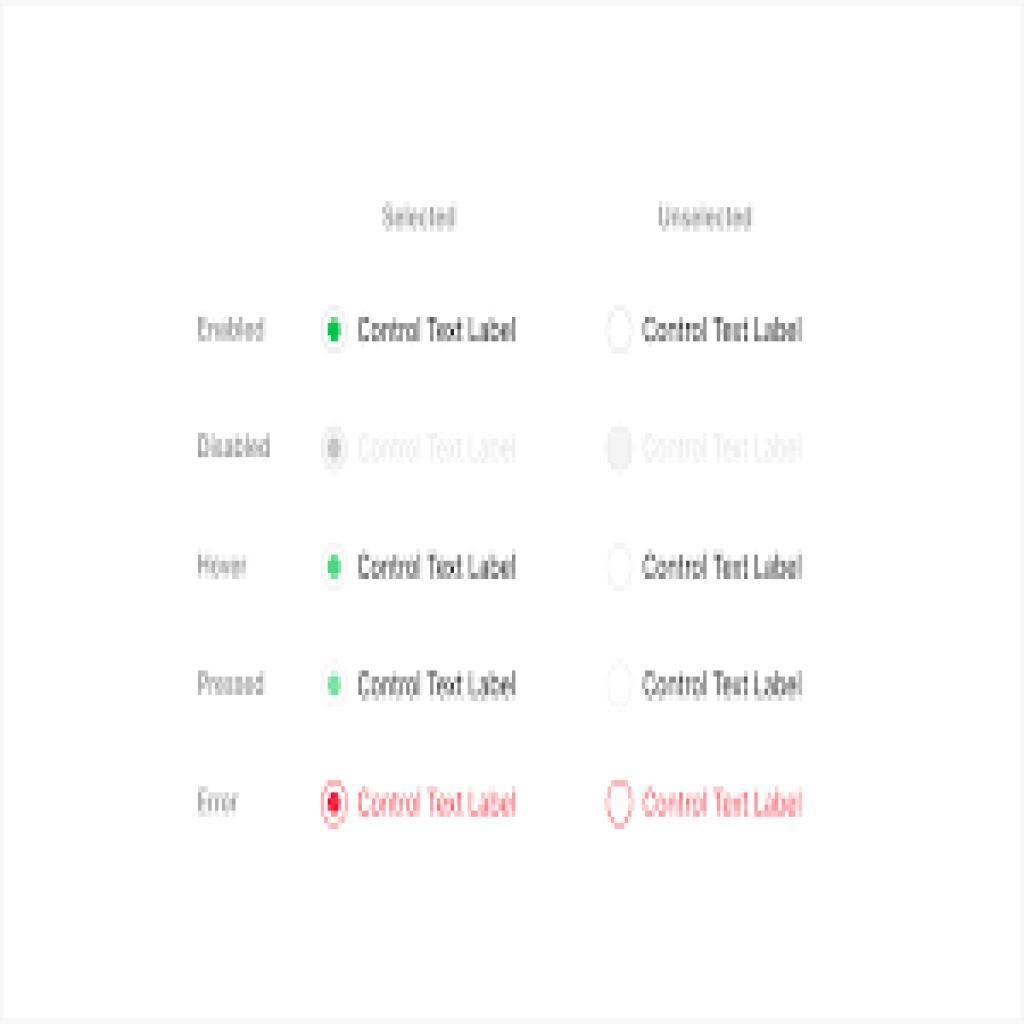label: (351, 664, 527, 709), (642, 781, 808, 826), (638, 662, 811, 705), (354, 310, 521, 354), (358, 782, 519, 825), (641, 314, 812, 354), (640, 548, 811, 587), (357, 550, 520, 586)
radio: (603, 774, 640, 832), (321, 772, 352, 833), (603, 307, 639, 357), (320, 423, 352, 476), (603, 660, 638, 708), (605, 425, 637, 476), (604, 541, 636, 592), (322, 303, 350, 358), (320, 541, 351, 587), (322, 656, 347, 713)
